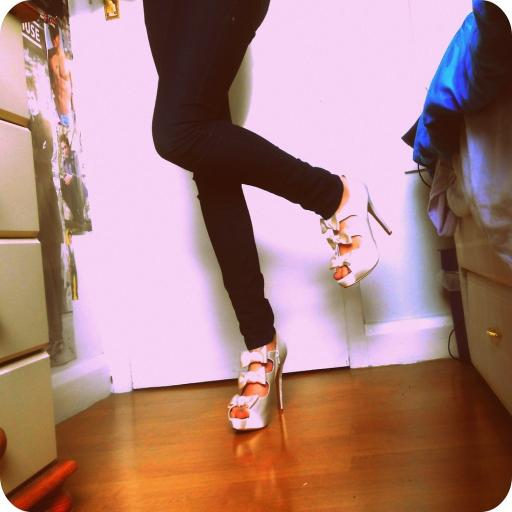heels: (320, 178, 392, 287), (228, 337, 288, 430)
